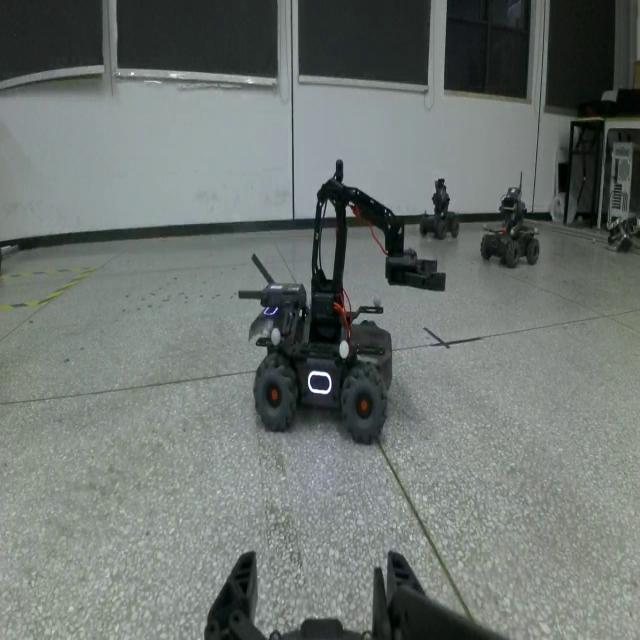ep: (233, 152, 443, 447)
s1: (476, 165, 542, 269), (418, 168, 459, 239)
